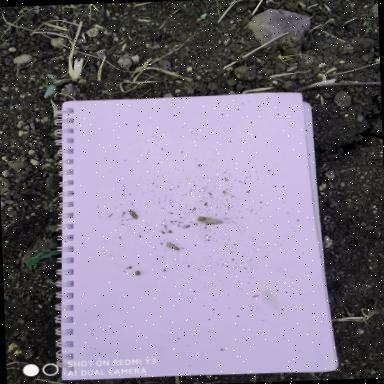pbw: (196, 214, 222, 225), (123, 207, 140, 221), (165, 240, 179, 250)
